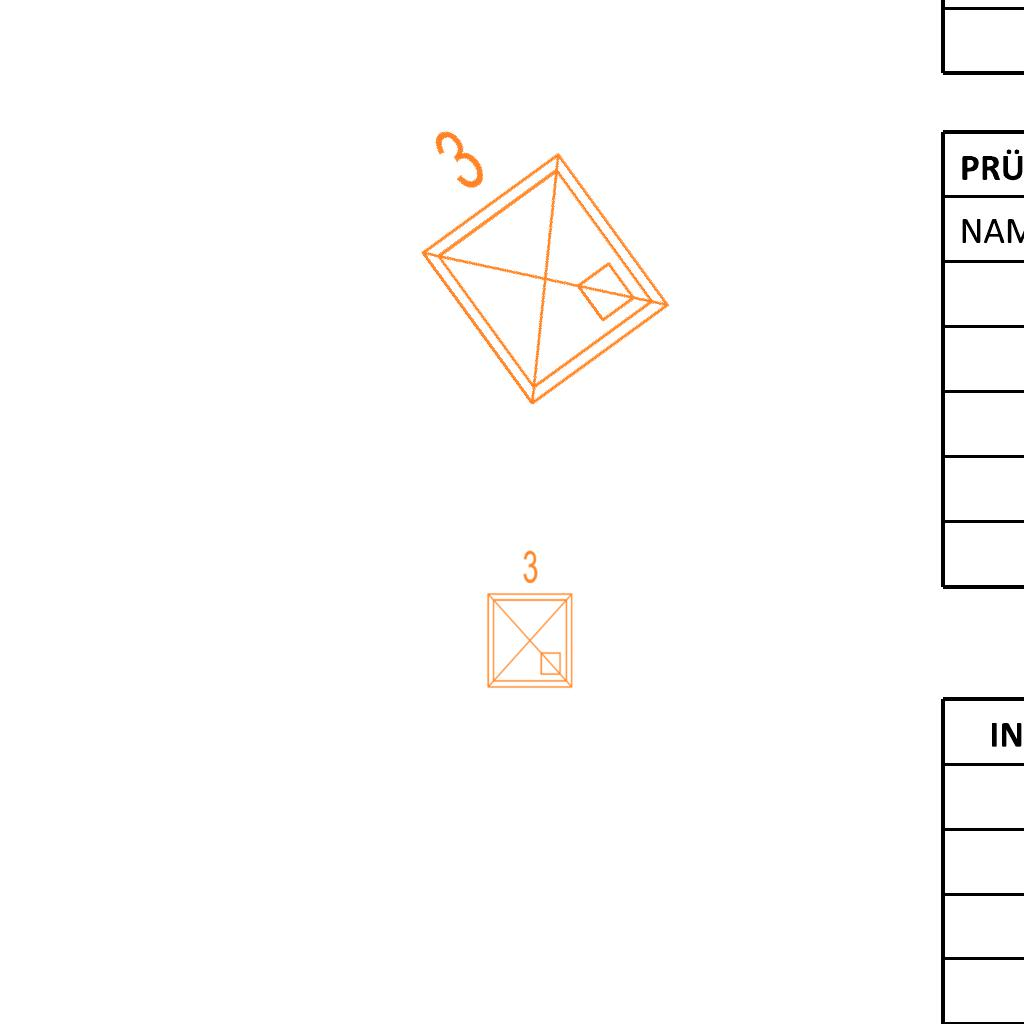Einbaudownlights_LED_Konferenzraeume: (345, 65, 691, 431), (476, 545, 580, 695)
